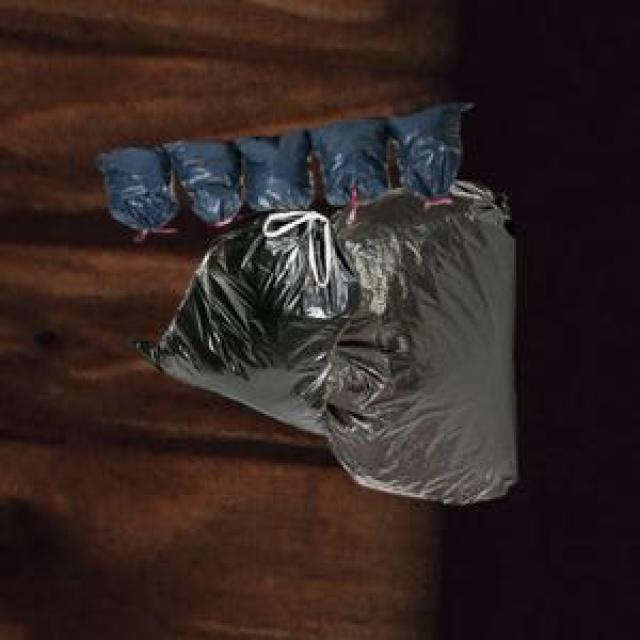Vinyl: (100, 104, 518, 504)
